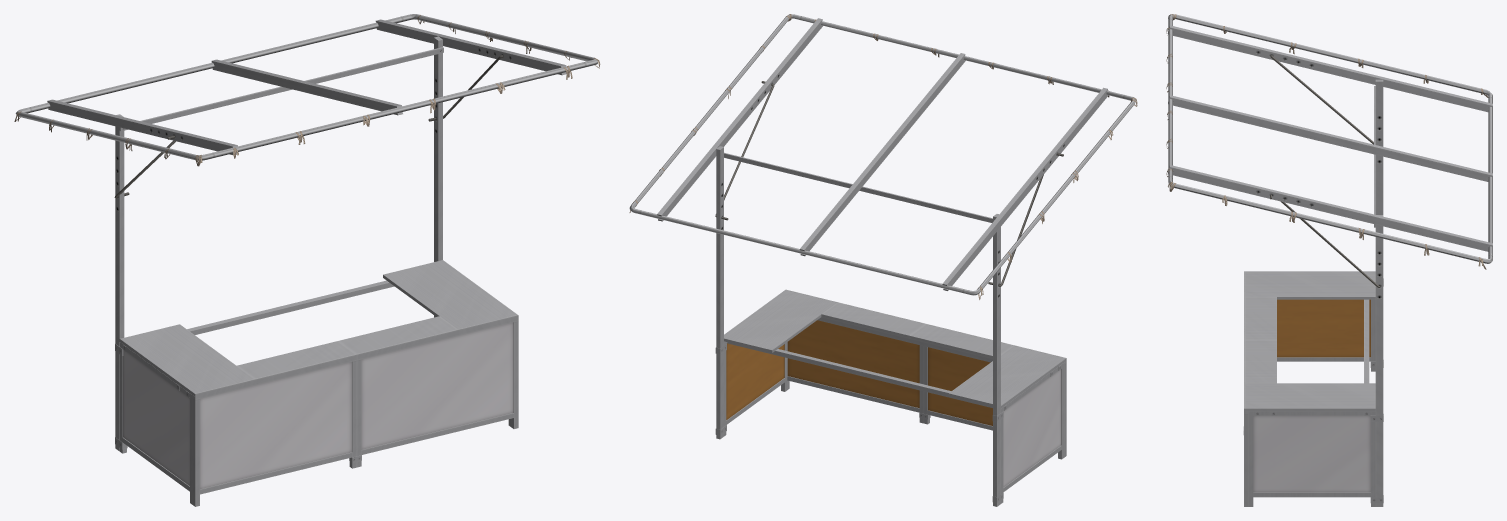
The model's file is jsf_2P_s02_c04_t03.fbx.
The picture shows the model from 3 angles, left to right: view 1: azimuth 30°, elevation 25°; view 2: azimuth 150°, elevation 25°; view 3: azimuth 270°, elevation 25°; orthographic projection. The views are drawn at different scales.
Visible parts, largest first — view 1: Base_s02_c04, Pillar2_s02, Table_2P_s02_t03, Rope_2P_s02; view 2: Base_s02_c04, Pillar2_s02, Table_2P_s02_t03; view 3: Pillar2_s02, Base_s02_c04, Table_2P_s02_t03, Rope_2P_s02.
Boxes of the visible parts, x1,y1,x2,y2 form: Base_s02_c04: (115,315,518,506); Pillar2_s02: (15,14,597,451); Table_2P_s02_t03: (119,260,517,397); Rope_2P_s02: (14,15,600,166); Base_s02_c04: (715,289,1066,503); Pillar2_s02: (629,14,1135,506); Table_2P_s02_t03: (724,290,1065,410); Pillar2_s02: (1168,14,1492,506); Base_s02_c04: (1243,271,1383,506); Table_2P_s02_t03: (1245,271,1375,415); Rope_2P_s02: (1166,14,1488,269).
Bounding box in the file's own units: 264 × 244 × 211.
